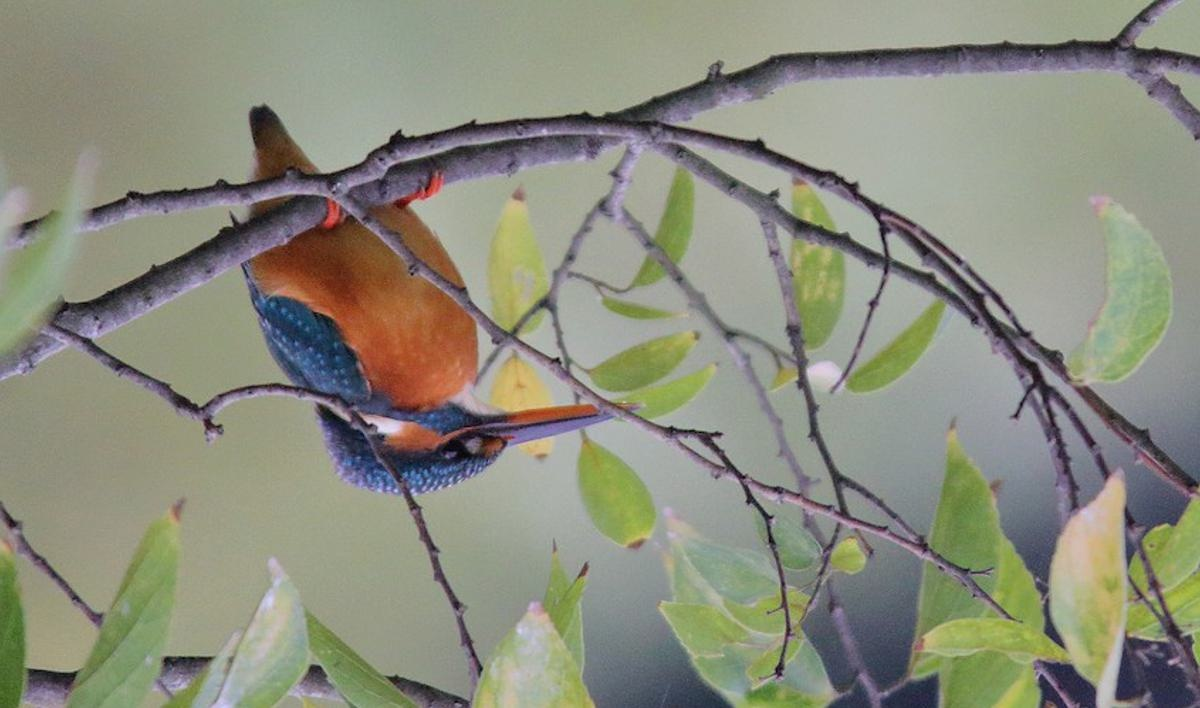kingfisher: (201, 90, 658, 510)
